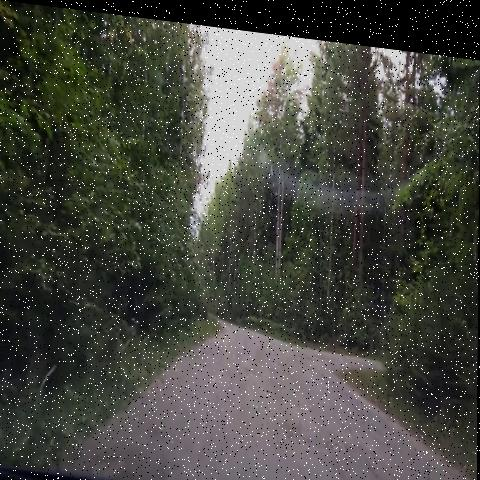pothole: (272, 407, 357, 455), (84, 432, 136, 480), (239, 355, 262, 376)
